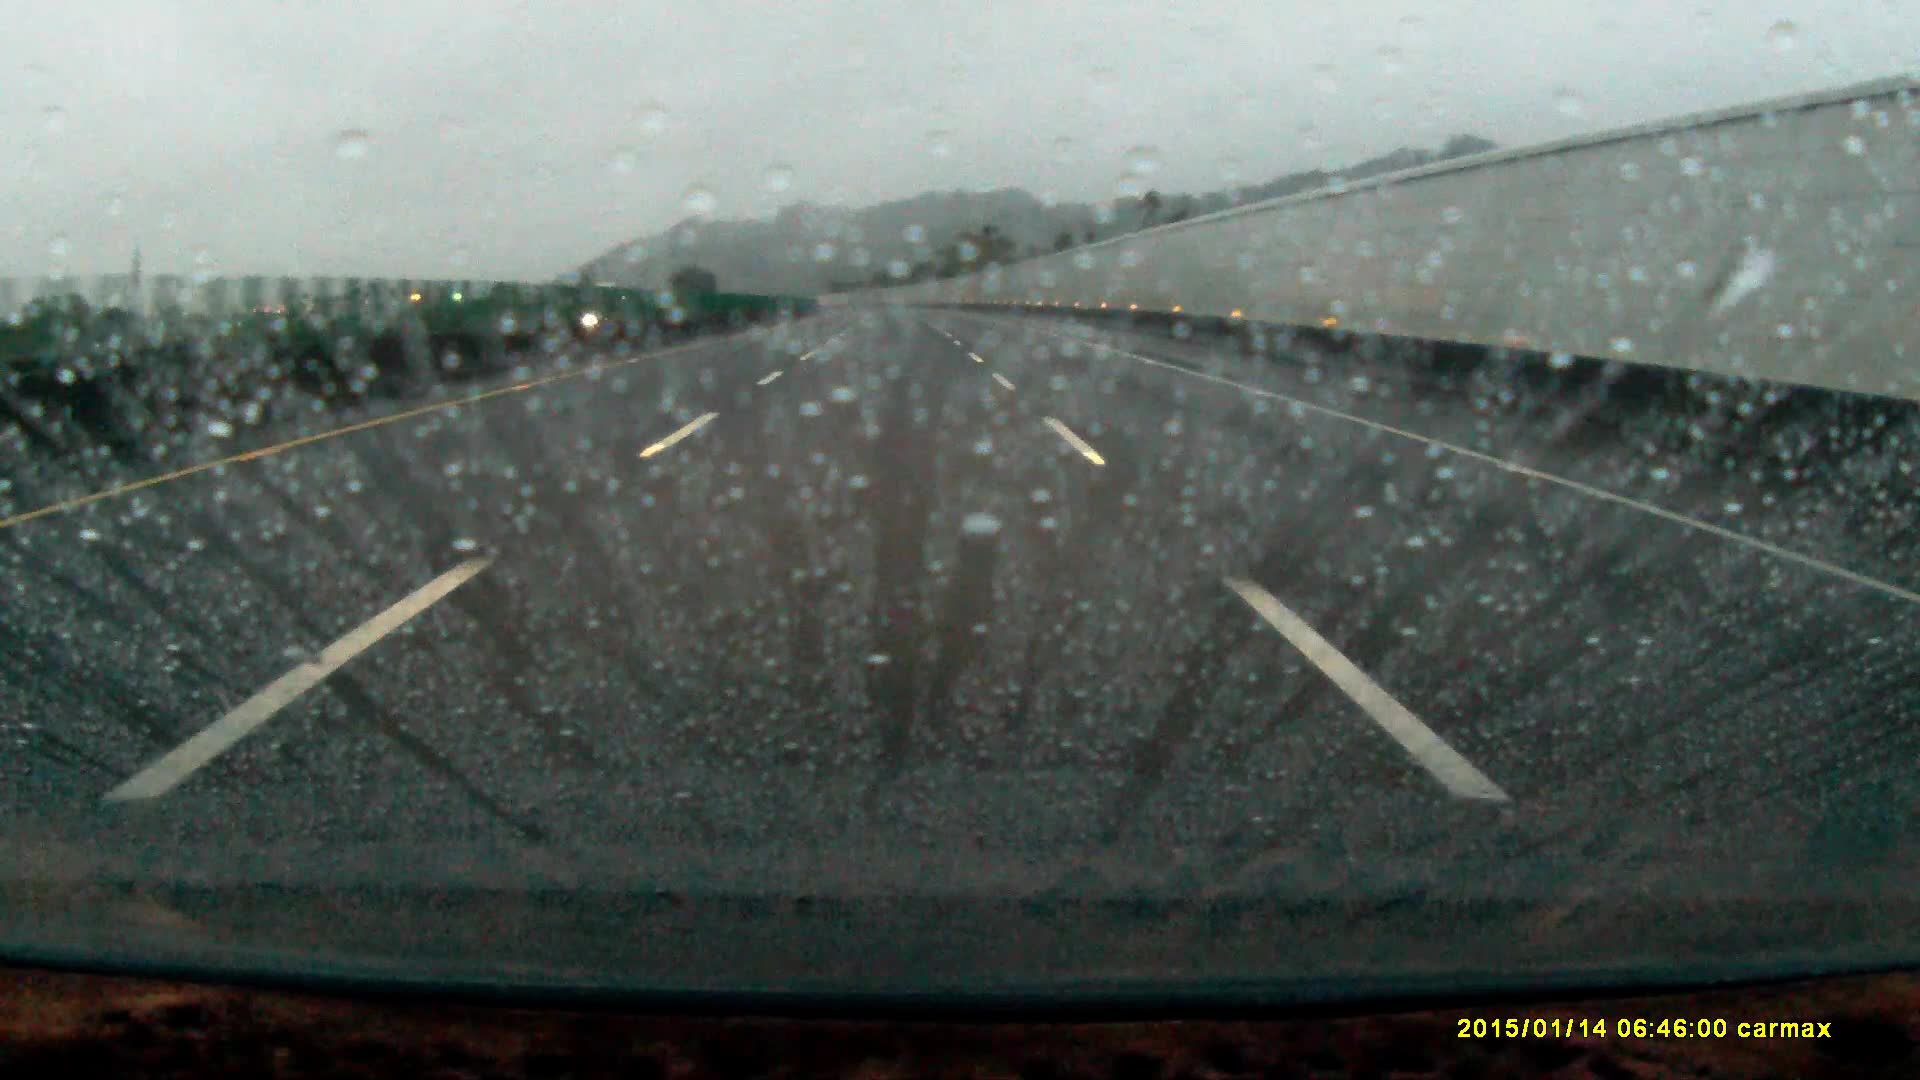vehicle: (585, 295, 633, 324)
